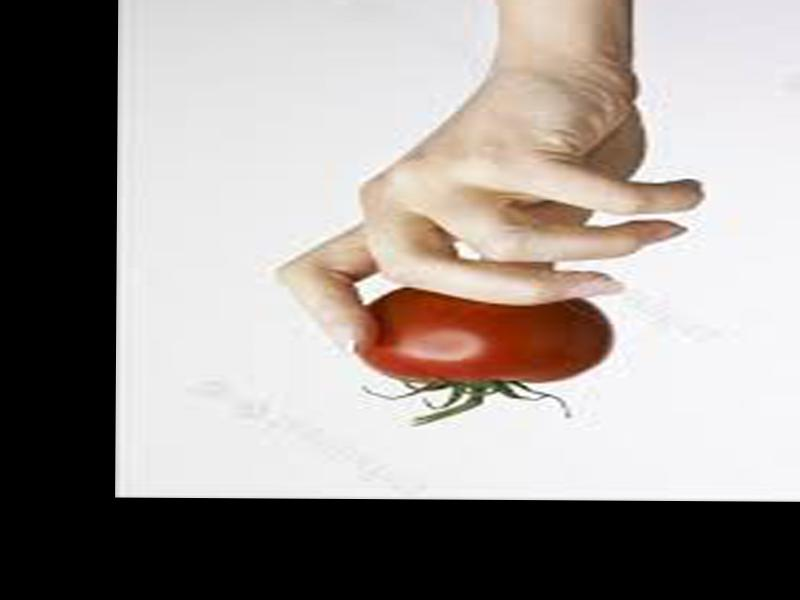Tomato: (358, 288, 609, 425)
